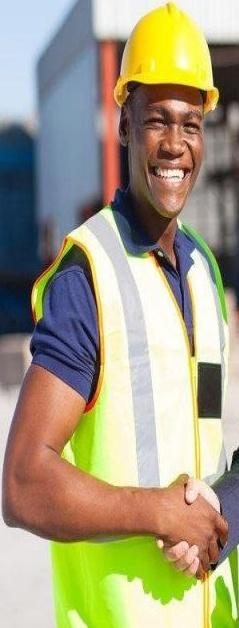hard-hat: (113, 0, 219, 114)
vest: (0, 0, 1, 1)
